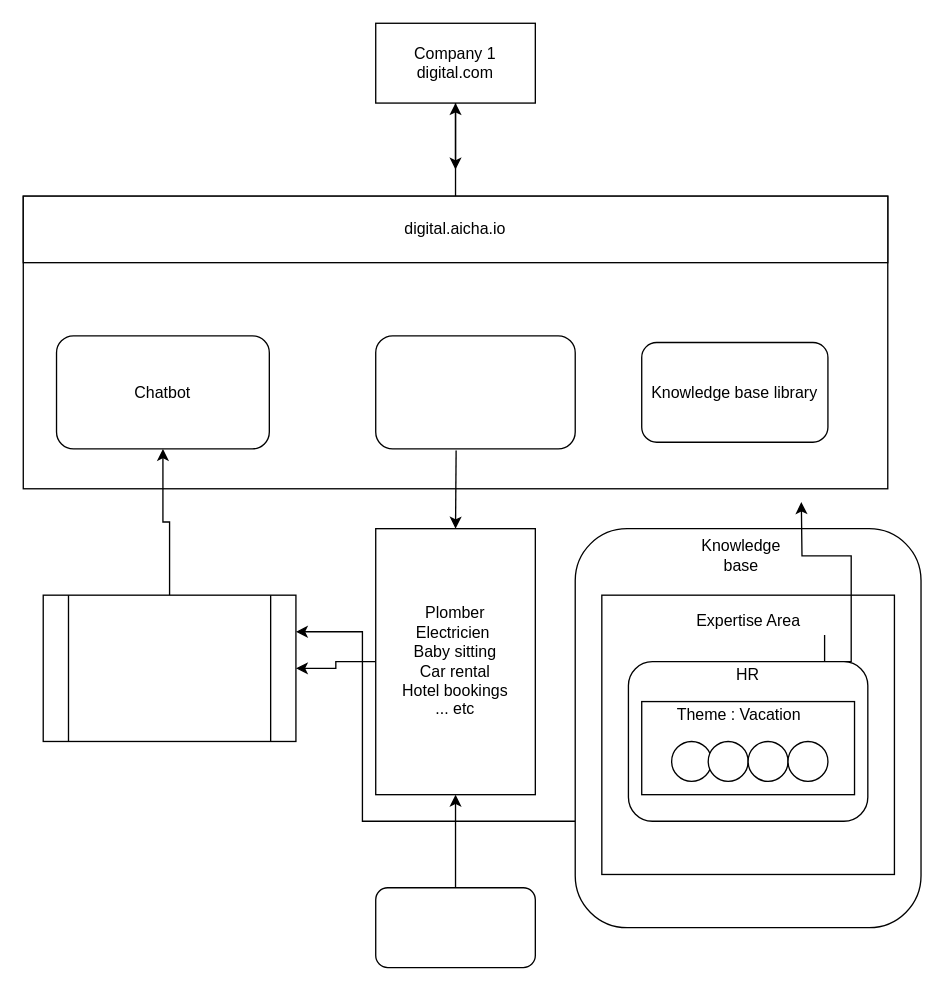
The diagram is 944 pixels wide and 991 high, and some of its shapes have lost their labels. The centre of each missing label's shape, as x and y in pixels:
"Partner 1" belongs at (454,927).
"Services" belongs at (474,391).
"Training Engine" belongs at (169,667).
